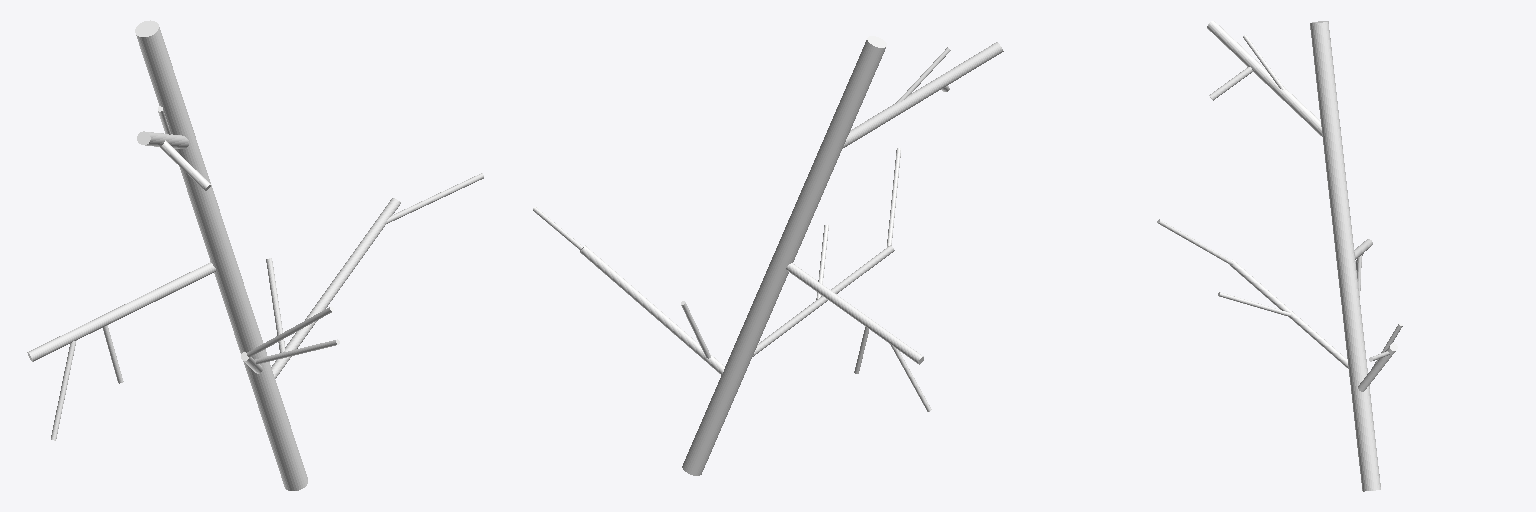
URDF robot description (tree_66.urdf):
<?xml version='1.0' encoding='UTF-8'?>
<robot name="tree_66.urdf">
  <link name="branch_0">
    <inertial>
      <origin xyz="0.0 0.0 0.0" rpy="0.0 -0.0 0.0"/>
      <mass value="1.0"/>
      <inertia ixx="1.0" ixy="0.0" ixz="0.0" iyy="1.0" iyz="0.0" izz="1.0"/>
    </inertial>
    <visual name="branch_0_visual">
      <geometry>
        <cylinder radius="0.17581800665190733" length="8.766019962105528"/>
      </geometry>
      <material name="branch_material"/>
      <origin xyz="-1.5002090157298509 -0.4877876058768268 4.089280212297022" rpy="0.0 0.3681785510070467 -2.82722831918408"/>
    </visual>
    <collision name="branch_0_collision">
      <geometry>
        <cylinder radius="0.17581800665190733" length="8.766019962105528"/>
      </geometry>
      <origin xyz="-1.5002090157298509 -0.4877876058768268 4.089280212297022" rpy="0.0 0.3681785510070467 -2.82722831918408"/>
    </collision>
  </link>
  <link name="branch_1">
    <inertial>
      <origin xyz="0.0 0.0 0.0" rpy="0.0 -0.0 0.0"/>
      <mass value="1.0"/>
      <inertia ixx="1.0" ixy="0.0" ixz="0.0" iyy="1.0" iyz="0.0" izz="1.0"/>
    </inertial>
    <visual name="branch_1_visual">
      <geometry>
        <cylinder radius="0.09883322328551235" length="3.3155622947534447"/>
      </geometry>
      <material name="branch_material"/>
      <origin xyz="0.0 0.0 0.0" rpy="0.0 -0.0 0.0"/>
    </visual>
    <collision name="branch_1_collision">
      <geometry>
        <cylinder radius="0.09883322328551235" length="3.3155622947534447"/>
      </geometry>
      <origin xyz="0.0 0.0 0.0" rpy="0.0 -0.0 0.0"/>
    </collision>
  </link>
  <link name="branch_2">
    <inertial>
      <origin xyz="0.0 0.0 0.0" rpy="0.0 -0.0 0.0"/>
      <mass value="1.0"/>
      <inertia ixx="1.0" ixy="0.0" ixz="0.0" iyy="1.0" iyz="0.0" izz="1.0"/>
    </inertial>
    <visual name="branch_2_visual">
      <geometry>
        <cylinder radius="0.04" length="1.483042344924963"/>
      </geometry>
      <material name="branch_material"/>
      <origin xyz="0.0 0.0 0.0" rpy="0.0 -0.0 0.0"/>
    </visual>
    <collision name="branch_2_collision">
      <geometry>
        <cylinder radius="0.04" length="1.483042344924963"/>
      </geometry>
      <origin xyz="0.0 0.0 0.0" rpy="0.0 -0.0 0.0"/>
    </collision>
  </link>
  <link name="branch_3">
    <inertial>
      <origin xyz="0.0 0.0 0.0" rpy="0.0 -0.0 0.0"/>
      <mass value="1.0"/>
      <inertia ixx="1.0" ixy="0.0" ixz="0.0" iyy="1.0" iyz="0.0" izz="1.0"/>
    </inertial>
    <visual name="branch_3_visual">
      <geometry>
        <cylinder radius="0.0633912790387475" length="1.011157026820636"/>
      </geometry>
      <material name="branch_material"/>
      <origin xyz="0.0 0.0 0.0" rpy="0.0 -0.0 0.0"/>
    </visual>
    <collision name="branch_3_collision">
      <geometry>
        <cylinder radius="0.0633912790387475" length="1.011157026820636"/>
      </geometry>
      <origin xyz="0.0 0.0 0.0" rpy="0.0 -0.0 0.0"/>
    </collision>
  </link>
  <link name="branch_4">
    <inertial>
      <origin xyz="0.0 0.0 0.0" rpy="0.0 -0.0 0.0"/>
      <mass value="1.0"/>
      <inertia ixx="1.0" ixy="0.0" ixz="0.0" iyy="1.0" iyz="0.0" izz="1.0"/>
    </inertial>
    <visual name="branch_4_visual">
      <geometry>
        <cylinder radius="0.0780867854311569" length="3.105789857982017"/>
      </geometry>
      <material name="branch_material"/>
      <origin xyz="0.0 0.0 0.0" rpy="0.0 -0.0 0.0"/>
    </visual>
    <collision name="branch_4_collision">
      <geometry>
        <cylinder radius="0.0780867854311569" length="3.105789857982017"/>
      </geometry>
      <origin xyz="0.0 0.0 0.0" rpy="0.0 -0.0 0.0"/>
    </collision>
  </link>
  <link name="branch_5">
    <inertial>
      <origin xyz="0.0 0.0 0.0" rpy="0.0 -0.0 0.0"/>
      <mass value="1.0"/>
      <inertia ixx="1.0" ixy="0.0" ixz="0.0" iyy="1.0" iyz="0.0" izz="1.0"/>
    </inertial>
    <visual name="branch_5_visual">
      <geometry>
        <cylinder radius="0.04" length="1.0274179661522893"/>
      </geometry>
      <material name="branch_material"/>
      <origin xyz="0.0 0.0 0.0" rpy="0.0 -0.0 0.0"/>
    </visual>
    <collision name="branch_5_collision">
      <geometry>
        <cylinder radius="0.04" length="1.0274179661522893"/>
      </geometry>
      <origin xyz="0.0 0.0 0.0" rpy="0.0 -0.0 0.0"/>
    </collision>
  </link>
  <link name="branch_6">
    <inertial>
      <origin xyz="0.0 0.0 0.0" rpy="0.0 -0.0 0.0"/>
      <mass value="1.0"/>
      <inertia ixx="1.0" ixy="0.0" ixz="0.0" iyy="1.0" iyz="0.0" izz="1.0"/>
    </inertial>
    <visual name="branch_6_visual">
      <geometry>
        <cylinder radius="0.04" length="1.518443948040705"/>
      </geometry>
      <material name="branch_material"/>
      <origin xyz="0.0 0.0 0.0" rpy="0.0 -0.0 0.0"/>
    </visual>
    <collision name="branch_6_collision">
      <geometry>
        <cylinder radius="0.04" length="1.518443948040705"/>
      </geometry>
      <origin xyz="0.0 0.0 0.0" rpy="0.0 -0.0 0.0"/>
    </collision>
  </link>
  <link name="branch_7">
    <inertial>
      <origin xyz="0.0 0.0 0.0" rpy="0.0 -0.0 0.0"/>
      <mass value="1.0"/>
      <inertia ixx="1.0" ixy="0.0" ixz="0.0" iyy="1.0" iyz="0.0" izz="1.0"/>
    </inertial>
    <visual name="branch_7_visual">
      <geometry>
        <cylinder radius="0.0745516162427509" length="3.3056454369288004"/>
      </geometry>
      <material name="branch_material"/>
      <origin xyz="0.0 0.0 0.0" rpy="0.0 -0.0 0.0"/>
    </visual>
    <collision name="branch_7_collision">
      <geometry>
        <cylinder radius="0.0745516162427509" length="3.3056454369288004"/>
      </geometry>
      <origin xyz="0.0 0.0 0.0" rpy="0.0 -0.0 0.0"/>
    </collision>
  </link>
  <link name="branch_8">
    <inertial>
      <origin xyz="0.0 0.0 0.0" rpy="0.0 -0.0 0.0"/>
      <mass value="1.0"/>
      <inertia ixx="1.0" ixy="0.0" ixz="0.0" iyy="1.0" iyz="0.0" izz="1.0"/>
    </inertial>
    <visual name="branch_8_visual">
      <geometry>
        <cylinder radius="0.04086568652438615" length="1.6241654337807234"/>
      </geometry>
      <material name="branch_material"/>
      <origin xyz="0.0 0.0 0.0" rpy="0.0 -0.0 0.0"/>
    </visual>
    <collision name="branch_8_collision">
      <geometry>
        <cylinder radius="0.04086568652438615" length="1.6241654337807234"/>
      </geometry>
      <origin xyz="0.0 0.0 0.0" rpy="0.0 -0.0 0.0"/>
    </collision>
  </link>
  <link name="branch_9">
    <inertial>
      <origin xyz="0.0 0.0 0.0" rpy="0.0 -0.0 0.0"/>
      <mass value="1.0"/>
      <inertia ixx="1.0" ixy="0.0" ixz="0.0" iyy="1.0" iyz="0.0" izz="1.0"/>
    </inertial>
    <visual name="branch_9_visual">
      <geometry>
        <cylinder radius="0.044212608721015824" length="1.4290009421485472"/>
      </geometry>
      <material name="branch_material"/>
      <origin xyz="0.0 0.0 0.0" rpy="0.0 -0.0 0.0"/>
    </visual>
    <collision name="branch_9_collision">
      <geometry>
        <cylinder radius="0.044212608721015824" length="1.4290009421485472"/>
      </geometry>
      <origin xyz="0.0 0.0 0.0" rpy="0.0 -0.0 0.0"/>
    </collision>
  </link>
  <link name="branch_10">
    <inertial>
      <origin xyz="0.0 0.0 0.0" rpy="0.0 -0.0 0.0"/>
      <mass value="1.0"/>
      <inertia ixx="1.0" ixy="0.0" ixz="0.0" iyy="1.0" iyz="0.0" izz="1.0"/>
    </inertial>
    <visual name="branch_10_visual">
      <geometry>
        <cylinder radius="0.06156385146101531" length="3.255625194257836"/>
      </geometry>
      <material name="branch_material"/>
      <origin xyz="0.0 0.0 0.0" rpy="0.0 -0.0 0.0"/>
    </visual>
    <collision name="branch_10_collision">
      <geometry>
        <cylinder radius="0.06156385146101531" length="3.255625194257836"/>
      </geometry>
      <origin xyz="0.0 0.0 0.0" rpy="0.0 -0.0 0.0"/>
    </collision>
  </link>
  <link name="branch_11">
    <inertial>
      <origin xyz="0.0 0.0 0.0" rpy="0.0 -0.0 0.0"/>
      <mass value="1.0"/>
      <inertia ixx="1.0" ixy="0.0" ixz="0.0" iyy="1.0" iyz="0.0" izz="1.0"/>
    </inertial>
    <visual name="branch_11_visual">
      <geometry>
        <cylinder radius="0.04" length="1.6638642535494583"/>
      </geometry>
      <material name="branch_material"/>
      <origin xyz="0.0 0.0 0.0" rpy="0.0 -0.0 0.0"/>
    </visual>
    <collision name="branch_11_collision">
      <geometry>
        <cylinder radius="0.04" length="1.6638642535494583"/>
      </geometry>
      <origin xyz="0.0 0.0 0.0" rpy="0.0 -0.0 0.0"/>
    </collision>
  </link>
  <link name="branch_12">
    <inertial>
      <origin xyz="0.0 0.0 0.0" rpy="0.0 -0.0 0.0"/>
      <mass value="1.0"/>
      <inertia ixx="1.0" ixy="0.0" ixz="0.0" iyy="1.0" iyz="0.0" izz="1.0"/>
    </inertial>
    <visual name="branch_12_visual">
      <geometry>
        <cylinder radius="0.04" length="1.9179001113735517"/>
      </geometry>
      <material name="branch_material"/>
      <origin xyz="0.0 0.0 0.0" rpy="0.0 -0.0 0.0"/>
    </visual>
    <collision name="branch_12_collision">
      <geometry>
        <cylinder radius="0.04" length="1.9179001113735517"/>
      </geometry>
      <origin xyz="0.0 0.0 0.0" rpy="0.0 -0.0 0.0"/>
    </collision>
  </link>
  <joint name="joint_0_1" type="fixed">
    <parent link="branch_0"/>
    <child link="branch_1"/>
    <axis xyz="1. 0. 0."/>
    <origin xyz="-3.2307871002523183 -1.8580053153748632 6.847162568872411" rpy="0.4849801181352987 1.059827774293216 -1.744158473819325"/>
  </joint>
  <joint name="joint_0_4" type="fixed">
    <parent link="branch_0"/>
    <child link="branch_4"/>
    <axis xyz="1. 0. 0."/>
    <origin xyz="-2.921221919354091 -0.2661049517088062 3.4969308308522633" rpy="-2.6940881672040122 1.2150403630556497 0.3308699987736514"/>
  </joint>
  <joint name="joint_0_7" type="fixed">
    <parent link="branch_0"/>
    <child link="branch_7"/>
    <axis xyz="1. 0. 0."/>
    <origin xyz="0.6163297544078605 0.10082818339771732 2.777080241658026" rpy="0.03480958621717836 0.9014825281188478 0.28565122579500896"/>
  </joint>
  <joint name="joint_0_10" type="fixed">
    <parent link="branch_0"/>
    <child link="branch_10"/>
    <axis xyz="1. 0. 0."/>
    <origin xyz="-1.5486594297299623 -1.429787581348271 2.8065034737361216" rpy="0.5173322661518518 0.9932936312139654 -1.5685700773252773"/>
  </joint>
  <joint name="joint_1_2" type="fixed">
    <parent link="branch_0"/>
    <child link="branch_2"/>
    <axis xyz="1. 0. 0."/>
    <origin xyz="-3.2541416703013746 -1.9334808779668495 7.124150744228444" rpy="0.1900901016311427 -0.8078167185846564 0.6525615571606775"/>
  </joint>
  <joint name="joint_1_3" type="fixed">
    <parent link="branch_0"/>
    <child link="branch_3"/>
    <axis xyz="1. 0. 0."/>
    <origin xyz="-3.332259093136024 -2.5743213736026154 6.79577069408599" rpy="2.175693154018692 0.5301257644644303 0.7269825162826046"/>
  </joint>
  <joint name="joint_4_5" type="fixed">
    <parent link="branch_0"/>
    <child link="branch_5"/>
    <axis xyz="1. 0. 0."/>
    <origin xyz="-3.145284636906422 -0.23809277198932594 2.882305522954966" rpy="3.1338165970487184 -0.25557353872097055 -0.14288824424563112"/>
  </joint>
  <joint name="joint_4_6" type="fixed">
    <parent link="branch_0"/>
    <child link="branch_6"/>
    <axis xyz="1. 0. 0."/>
    <origin xyz="-3.988790789231556 -0.3386522559519297 2.554783825516845" rpy="2.7705021435672523 0.28042649296421945 -0.37291361462652417"/>
  </joint>
  <joint name="joint_7_8" type="fixed">
    <parent link="branch_0"/>
    <child link="branch_8"/>
    <axis xyz="1. 0. 0."/>
    <origin xyz="2.300081812471453 0.16004341662233057 3.817249445249851" rpy="-1.103886275661642 0.717062242709884 -1.4779436610828254"/>
  </joint>
  <joint name="joint_7_9" type="fixed">
    <parent link="branch_0"/>
    <child link="branch_9"/>
    <axis xyz="1. 0. 0."/>
    <origin xyz="-0.20425115872824567 0.20919376072088086 2.6861723837629663" rpy="0.4859247748984405 -0.005686645885563859 2.9492490142649563"/>
  </joint>
  <joint name="joint_10_11" type="fixed">
    <parent link="branch_0"/>
    <child link="branch_11"/>
    <axis xyz="1. 0. 0."/>
    <origin xyz="-1.2672841617348163 -2.154867205733191 3.201225340394388" rpy="1.0994640214125697 0.2615673541093894 0.2999667509477282"/>
  </joint>
  <joint name="joint_10_12" type="fixed">
    <parent link="branch_0"/>
    <child link="branch_12"/>
    <axis xyz="1. 0. 0."/>
    <origin xyz="-2.006075092088106 -3.254561503827773 4.1232282738435435" rpy="0.9133587156976907 0.09550081051602988 0.3380894122822402"/>
  </joint>
  <material name="branch_material">
    <color rgba="1. 1. 1. 1."/>
  </material>
</robot>

--- What the picture shows (computed from the rendered views, not written in the file) ---
The picture shows the robot from 3 angles, left to right: view 1: azimuth 30°, elevation 25°; view 2: azimuth 150°, elevation 25°; view 3: azimuth 270°, elevation 25°; orthographic projection.
Robot: tree_66.urdf — 13 links, 12 joints (12 fixed); root link branch_0; default pose: all joints at 0.
Links seen in each view (by area): view 1: branch_0, branch_4, branch_7, branch_1, branch_8, branch_3, branch_6, branch_12, branch_9; view 2: branch_0, branch_1, branch_7, branch_4, branch_10; view 3: branch_0, branch_1, branch_10.
Link boxes in pixels (x1,y1,x2,y2): branch_0: (135,20,307,490); branch_4: (27,262,215,361); branch_7: (271,198,400,378); branch_1: (137,131,188,148); branch_8: (386,173,483,223); branch_3: (160,140,210,190); branch_6: (51,340,76,440); branch_12: (247,306,333,357); branch_9: (266,258,284,352); branch_0: (682,36,886,475); branch_1: (843,42,1003,147); branch_7: (580,245,724,374); branch_4: (786,263,923,364); branch_10: (753,245,894,356); branch_0: (1310,21,1380,491); branch_1: (1207,21,1322,136); branch_10: (1230,259,1348,368).
Bounding box of the posed robot: 7.47 × 4.55 × 8.31 m (x, y, z).
Geometry: primitives only (box / cylinder / sphere), no mesh files.